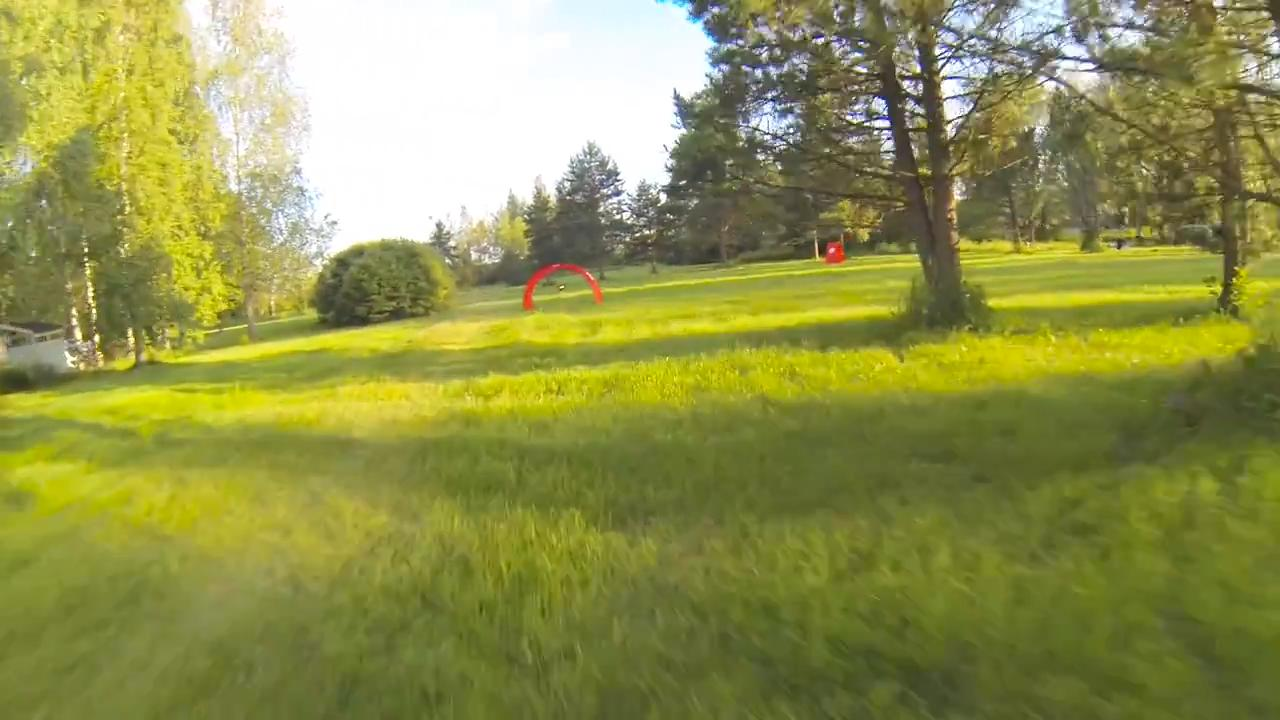gate: (522, 261, 607, 313)
